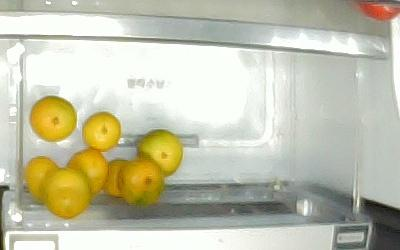tangerine: (43, 169, 91, 219), (29, 96, 77, 143), (118, 159, 164, 208), (137, 129, 183, 177), (66, 149, 109, 197), (24, 156, 58, 204), (81, 112, 121, 152), (104, 159, 127, 196)
